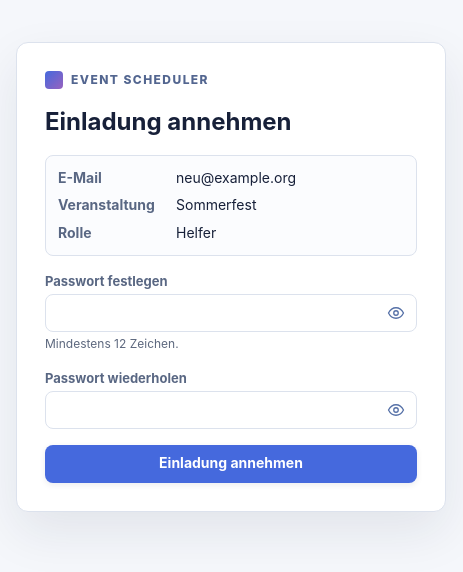
Test: asks new accounts for a repeated password before accepting
The width and height of the screenshot is (463, 572).
Expected: the text "Sommerfest" is shown, left=176, top=196, right=256, bottom=213
Expected: the text "Helfer" is shown, left=176, top=224, right=216, bottom=241
Type "Newpassword12345!" into the password field labelled "Passwort festlegen".
click(231, 313); type("Newpassword12345!")  # box left=45, top=294, right=417, bottom=332
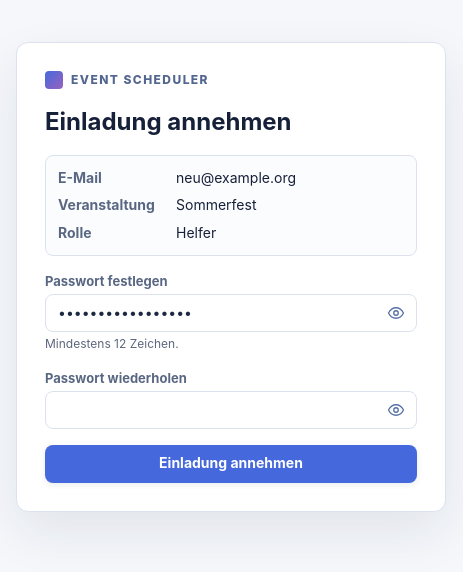
Type "Tippfehler12345!" into the password field labelled "Passwort wiederholen".
click(231, 410); type("Tippfehler12345!")  # box left=45, top=391, right=417, bottom=429
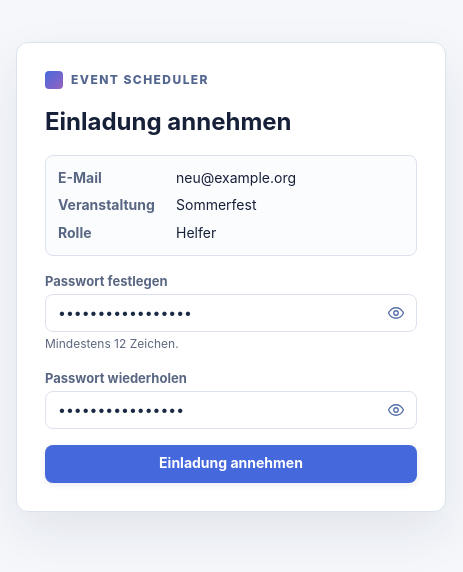
Submit the form named "Einladung annehmen", box left=45, top=272, right=417, bottom=483
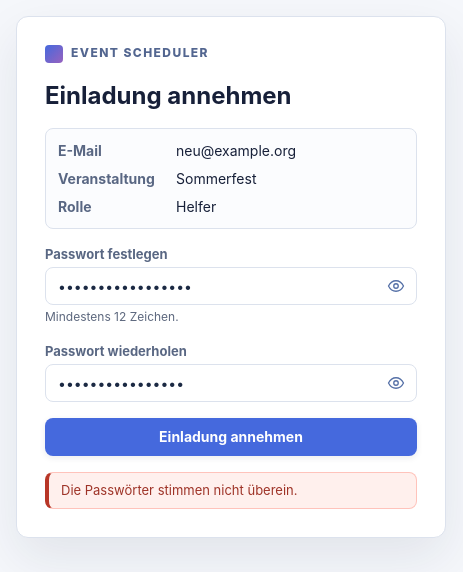
Expected: the message reads "Die Passwörter stimmen nicht überein.", left=61, top=482, right=298, bottom=498
